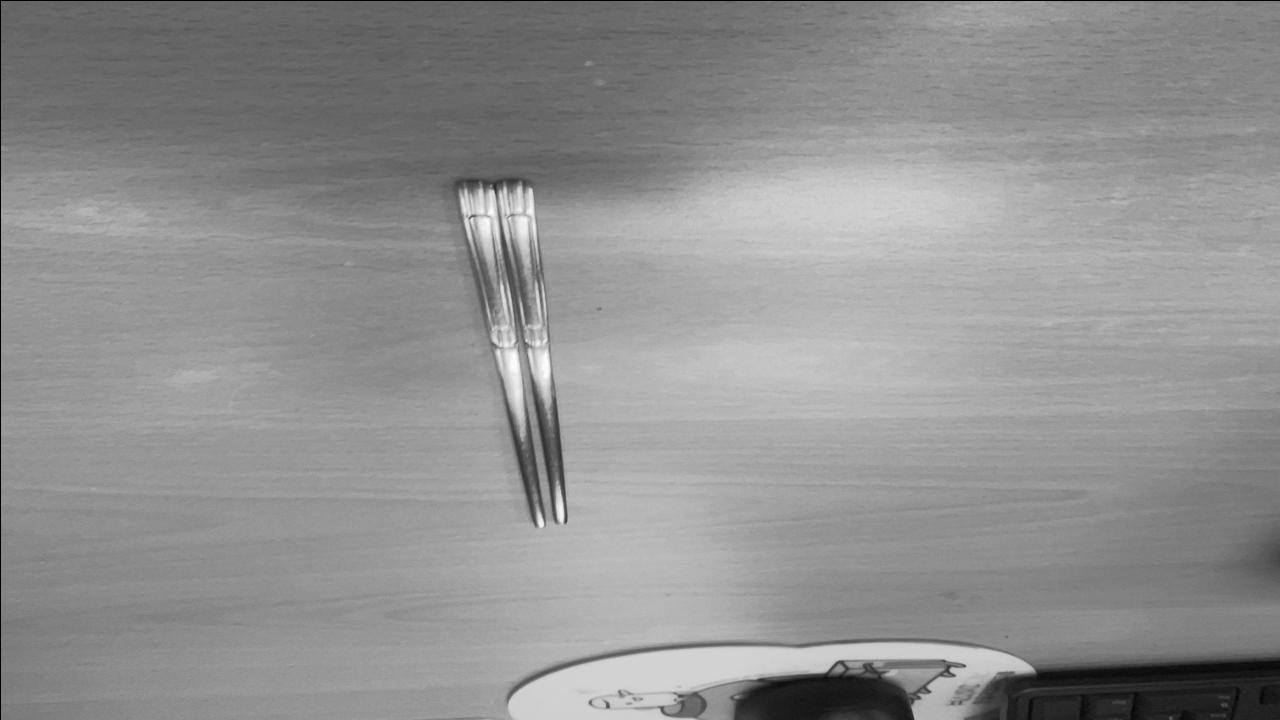chopstick: (447, 175, 572, 527)
